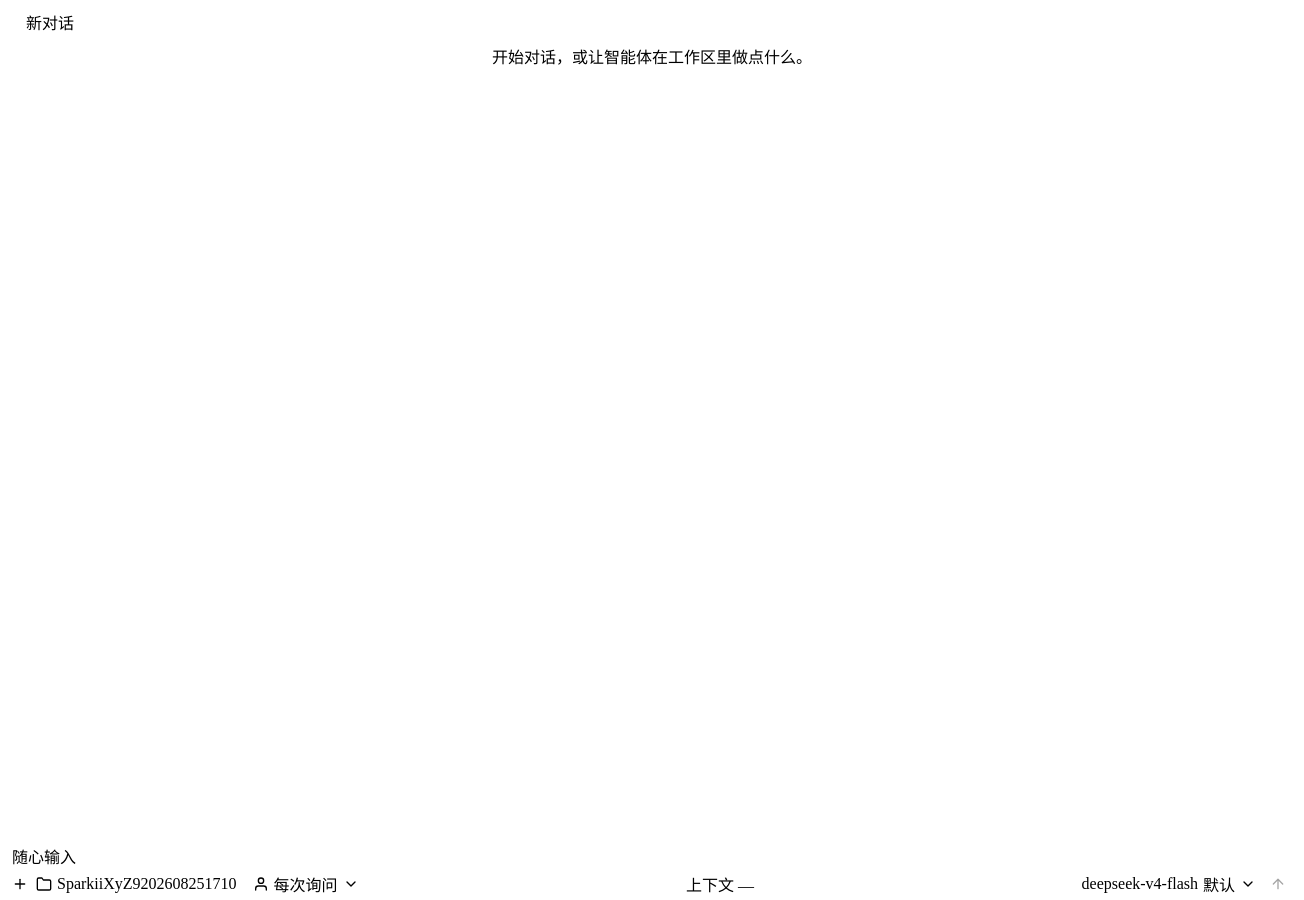
StandardChatSurface skill menu and timeline chips › shows listed skills after a successful fetch
Type "/" into the text box with test id "composer-input".
click(652, 856); type("/")  # box top-left (12, 844), bottom-right (1292, 868)
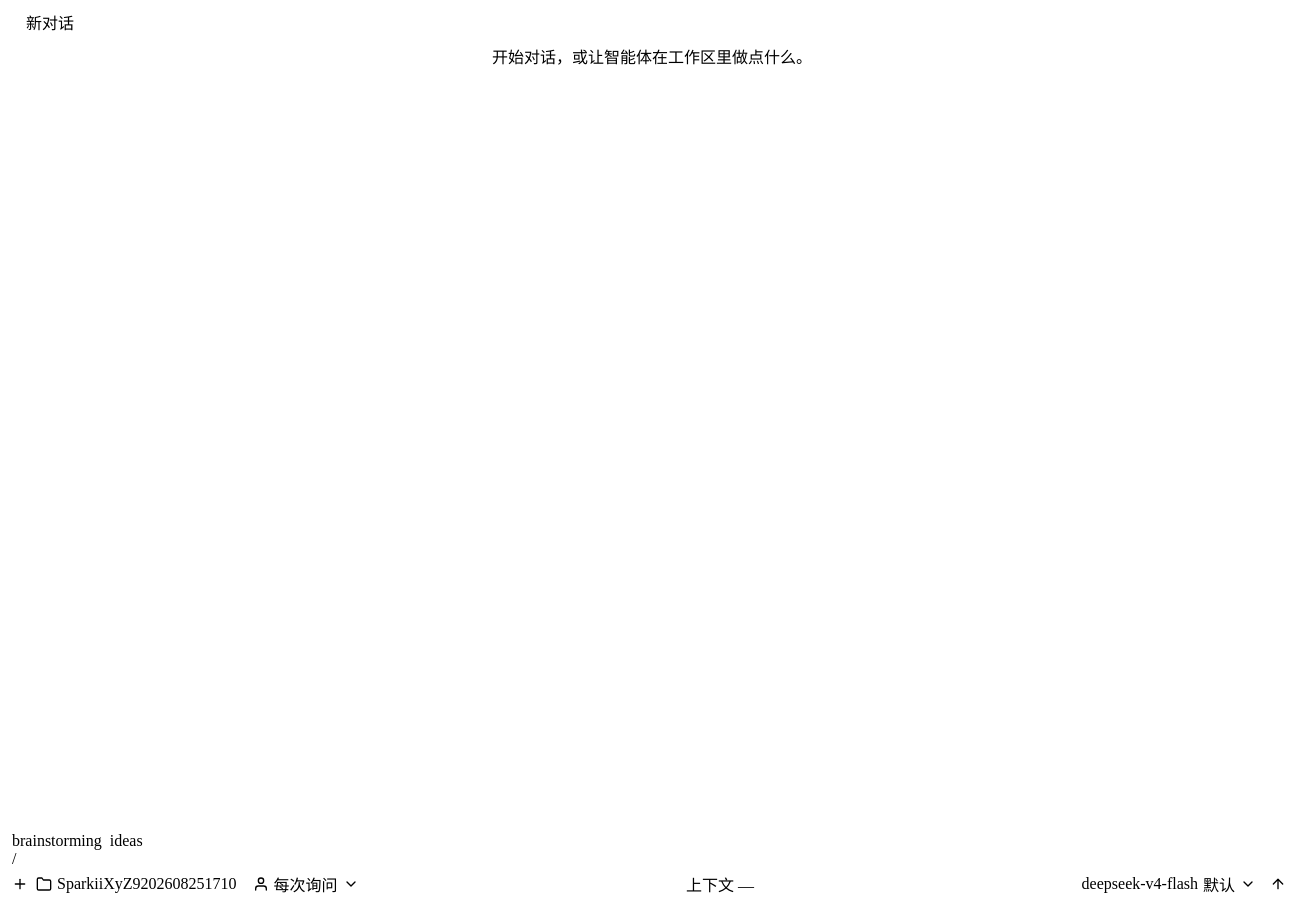
Expected: the text "brainstorming" is shown, top-left (12, 832), bottom-right (102, 850)
